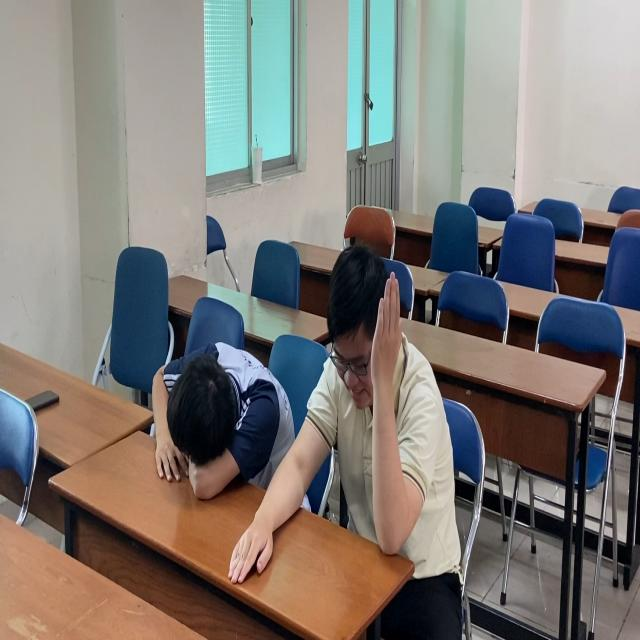raise_hand: (320, 246, 449, 567)
sleep: (128, 317, 301, 507)
